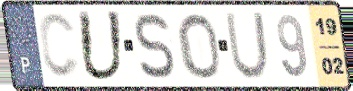9: (275, 12, 309, 81)
C: (37, 11, 83, 82)
O: (175, 12, 224, 81)
S: (133, 11, 177, 81)
U: (75, 8, 127, 83), (223, 10, 271, 82)
